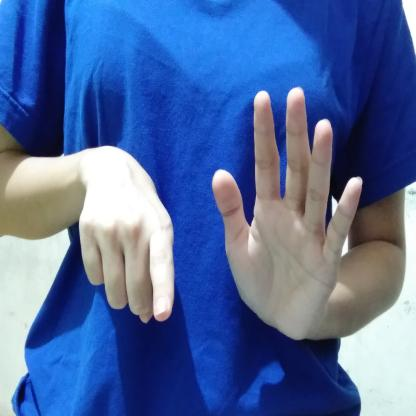stop: (62, 87, 366, 346)
